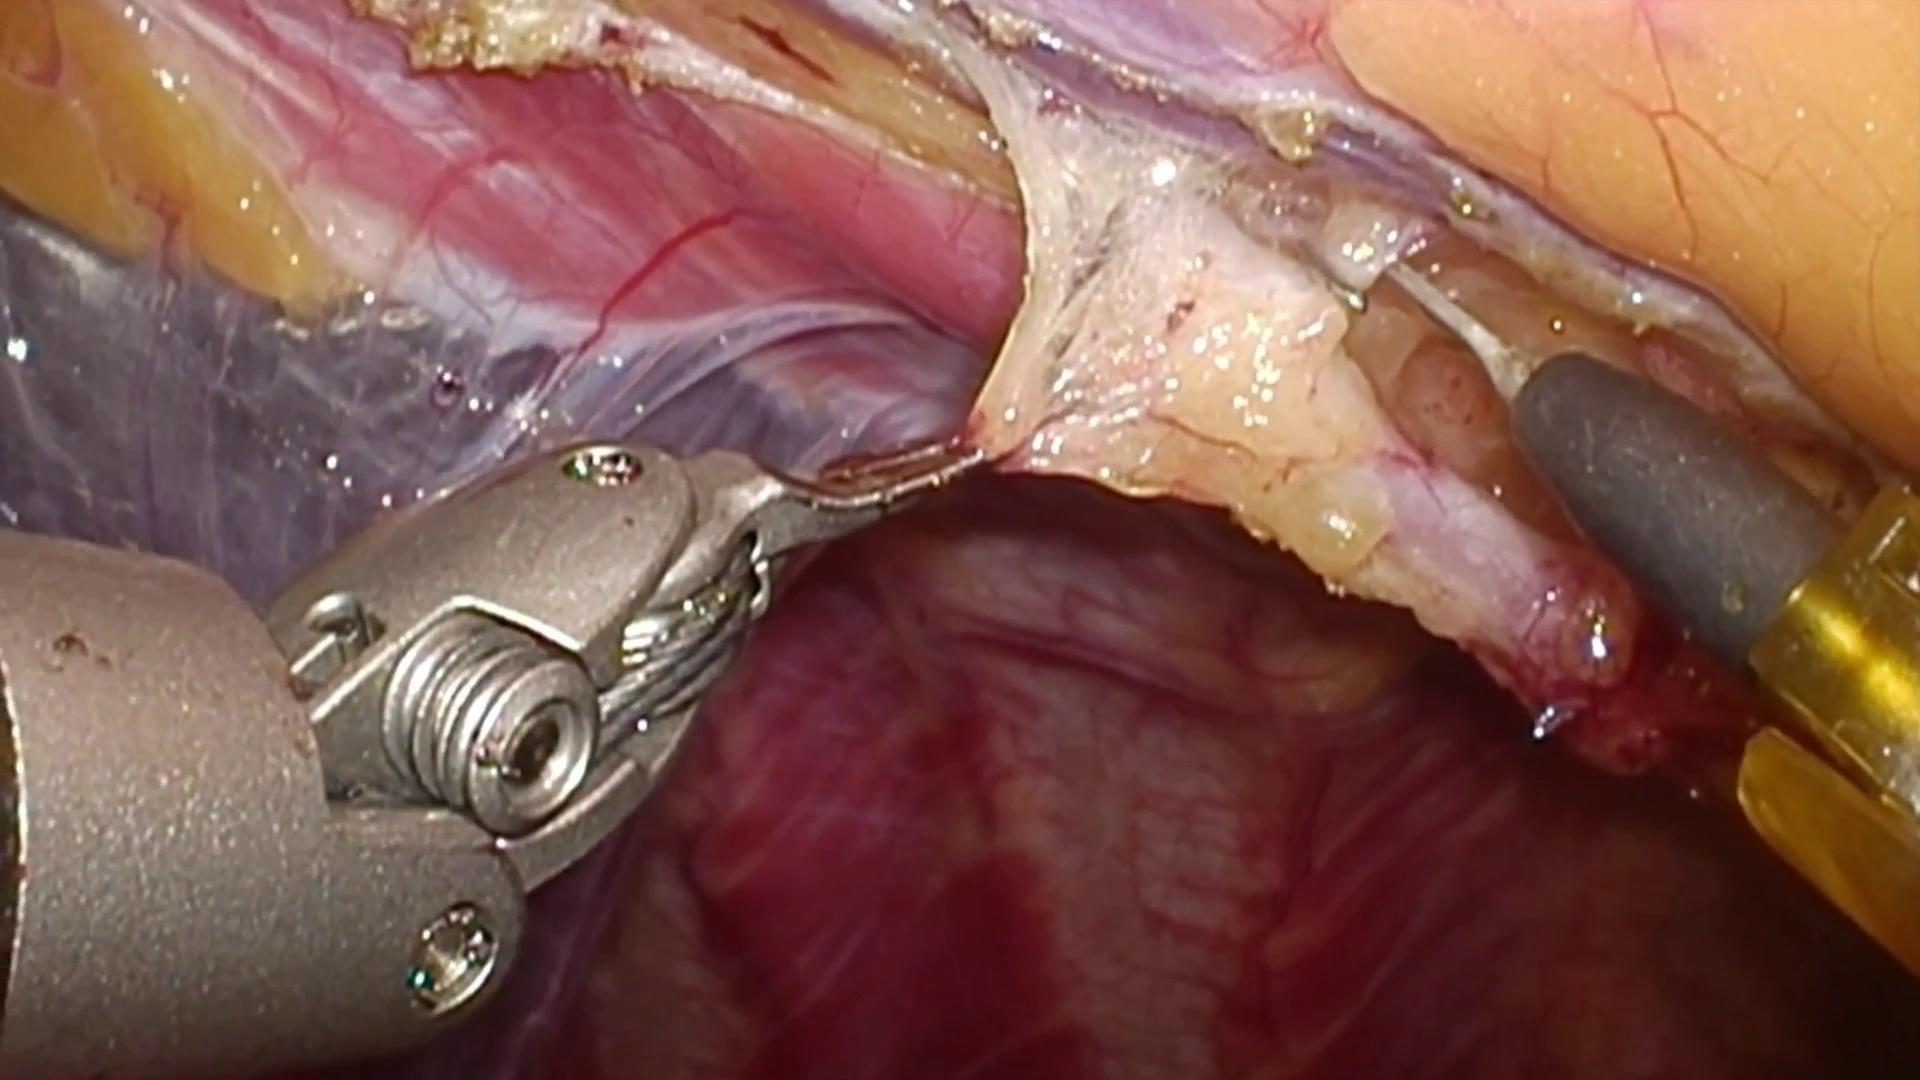Cautery_Spatula: (1389, 256, 1847, 673)
Debakey: (696, 409, 1006, 596)
